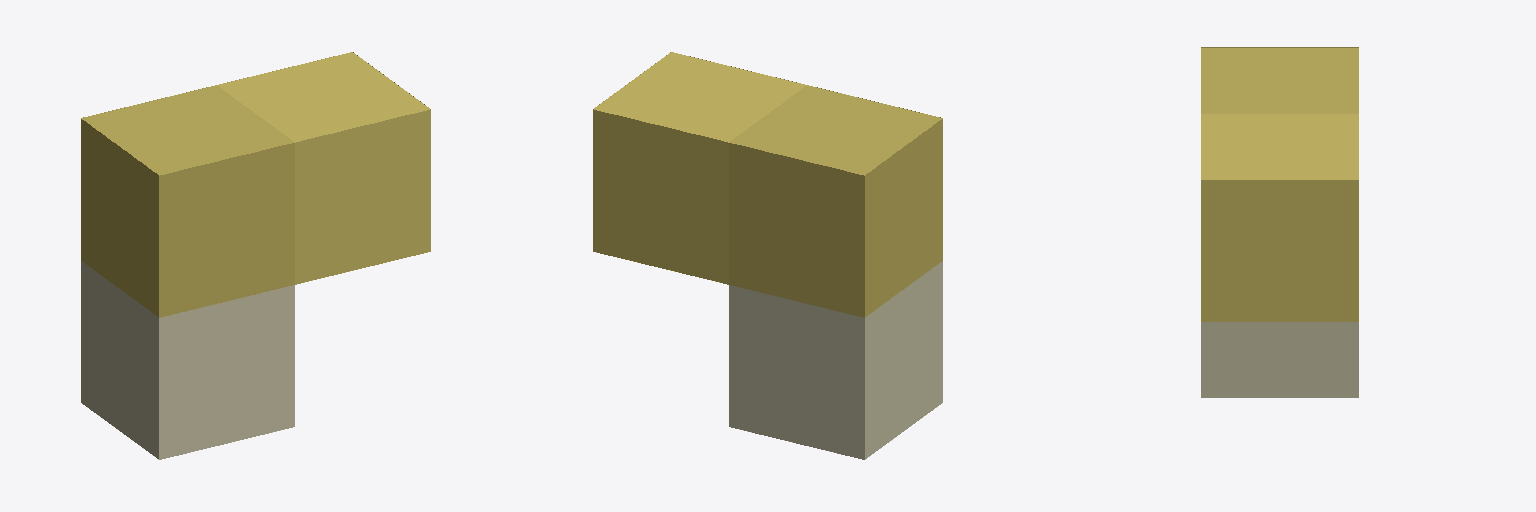
3 views of the same model, side by side, from view 1: azimuth 30°, elevation 25°; view 2: azimuth 150°, elevation 25°; view 3: azimuth 270°, elevation 25° (orthographic).
Visible parts, largest first — view 1: MirageArm; view 2: MirageArm; view 3: MirageArm.
Boxes of the visible parts, box(x1,y1,x2,y2) form: MirageArm: box(81, 52, 430, 459); MirageArm: box(593, 52, 942, 459); MirageArm: box(1201, 47, 1358, 397).
Size of the model in its own units: 2 by 2 by 1.
Materials: 1 (1 with a texture image).